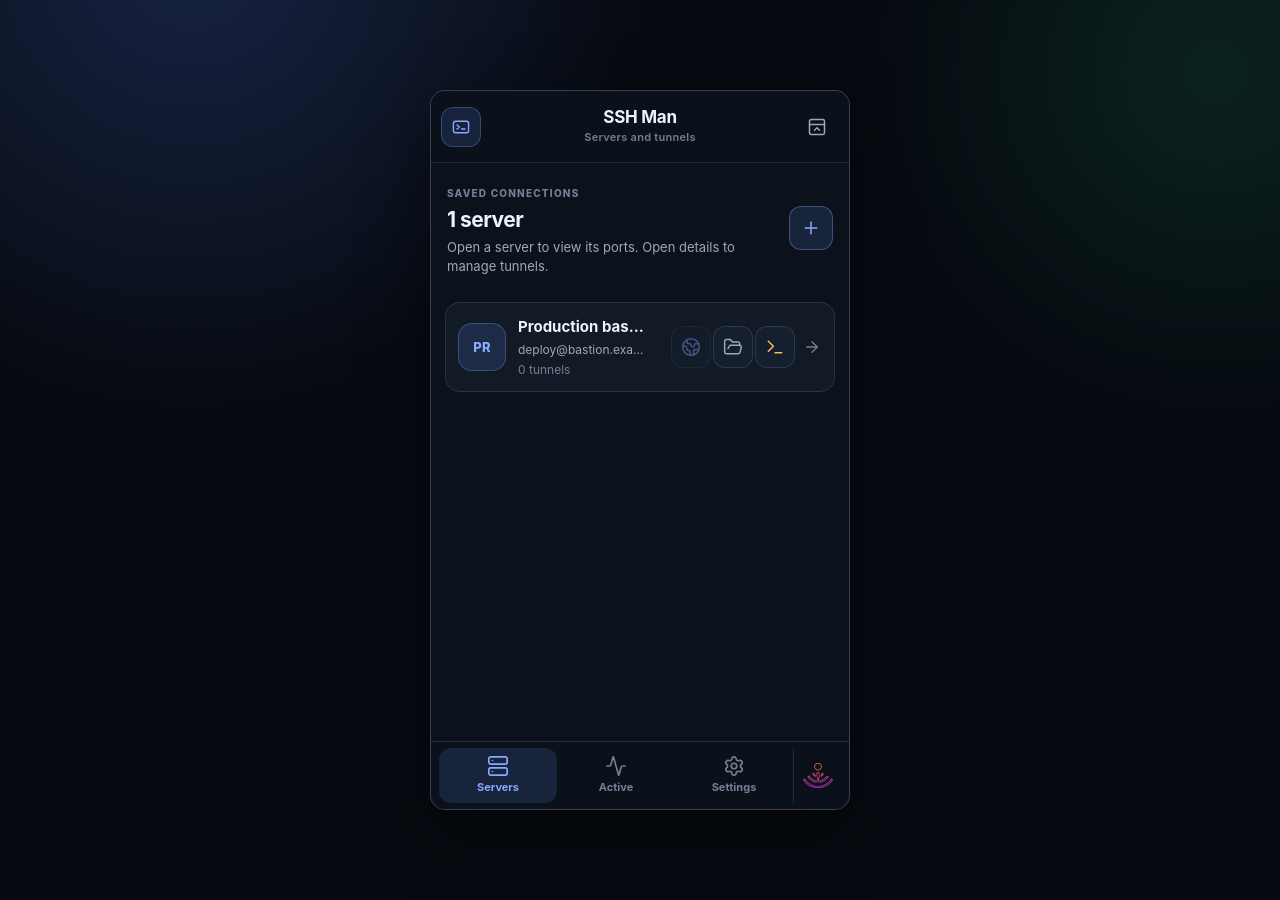
React application flows › opens host details in a separate window from the server row
Click the button with aria-label "Open Production bastion host details": x=558, y=347 x1=446 y1=303 x2=669 y2=391
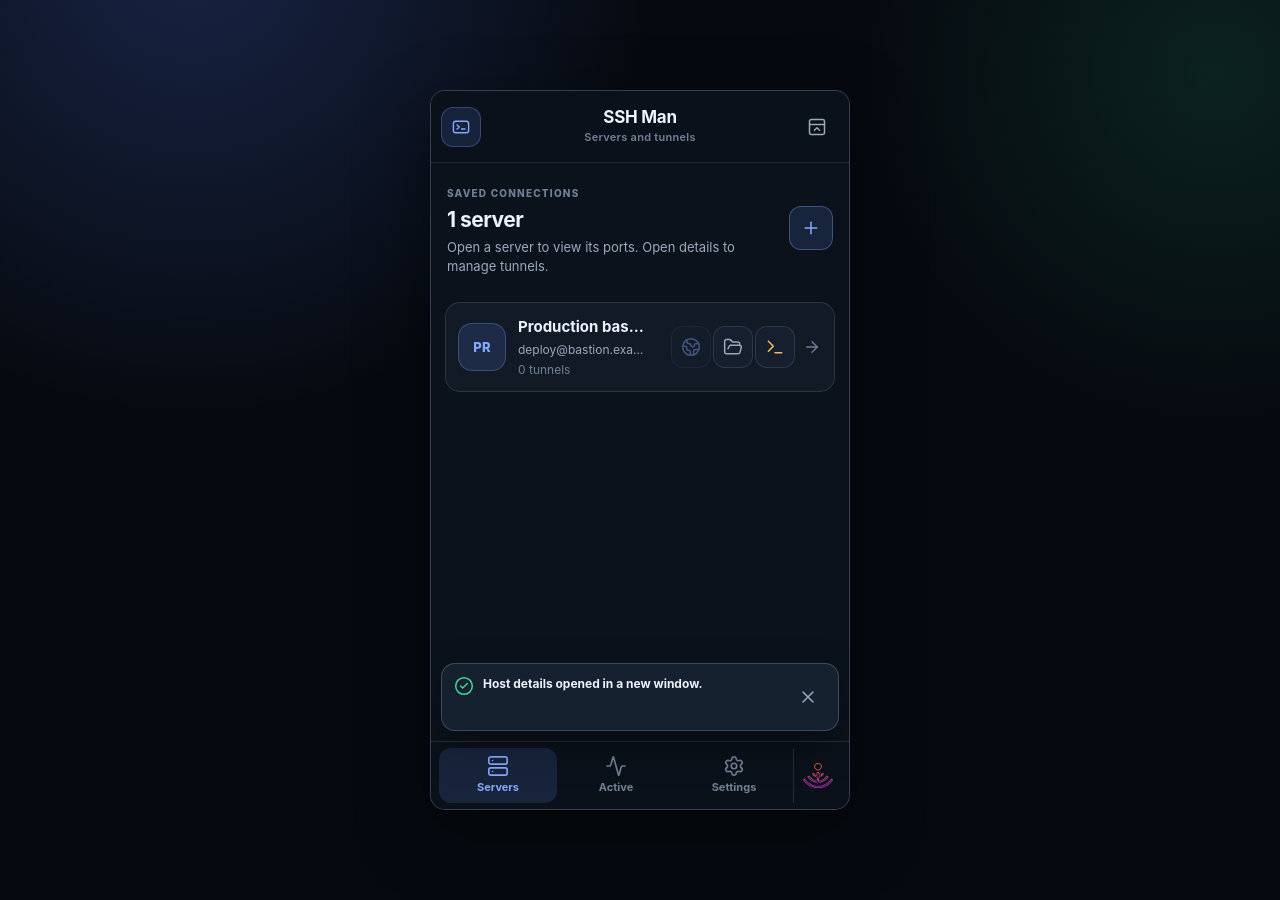
Now the text "Host details opened in a new window." is shown, box x1=483 y1=676 x2=702 y2=691
